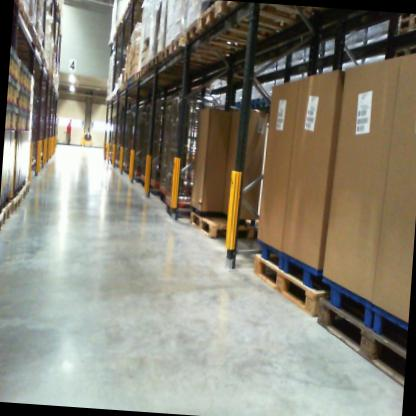pallet: (307, 300, 409, 389), (248, 249, 332, 330), (197, 2, 310, 43), (188, 205, 261, 244), (214, 0, 312, 29), (169, 39, 247, 70), (186, 19, 250, 56), (160, 43, 225, 71), (151, 53, 203, 74), (8, 192, 24, 218), (2, 200, 13, 226), (18, 184, 27, 205), (144, 60, 157, 73), (23, 181, 32, 198), (139, 64, 148, 81), (20, 15, 31, 28), (17, 4, 28, 17), (0, 211, 5, 236), (134, 71, 140, 83)
pallet_truck: (79, 123, 96, 152)
